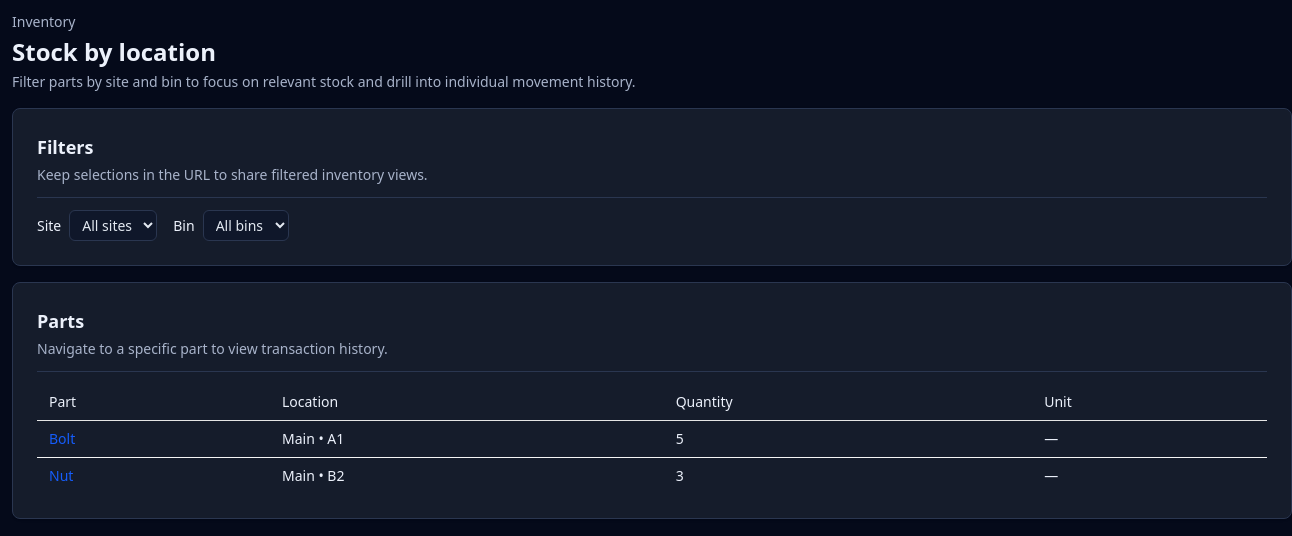
Scenario: Inventory list filters › filters by bin and reflects selection in the table
This screenshot has width=1292, height=536.
Expected: the link "Bolt" is shown, [49, 429, 75, 448]
Expected: the link "Nut" is shown, [49, 466, 73, 485]
Step 1. Select "B2" in the dropdown labelled "Bin" → (246, 226), box [203, 210, 289, 241]
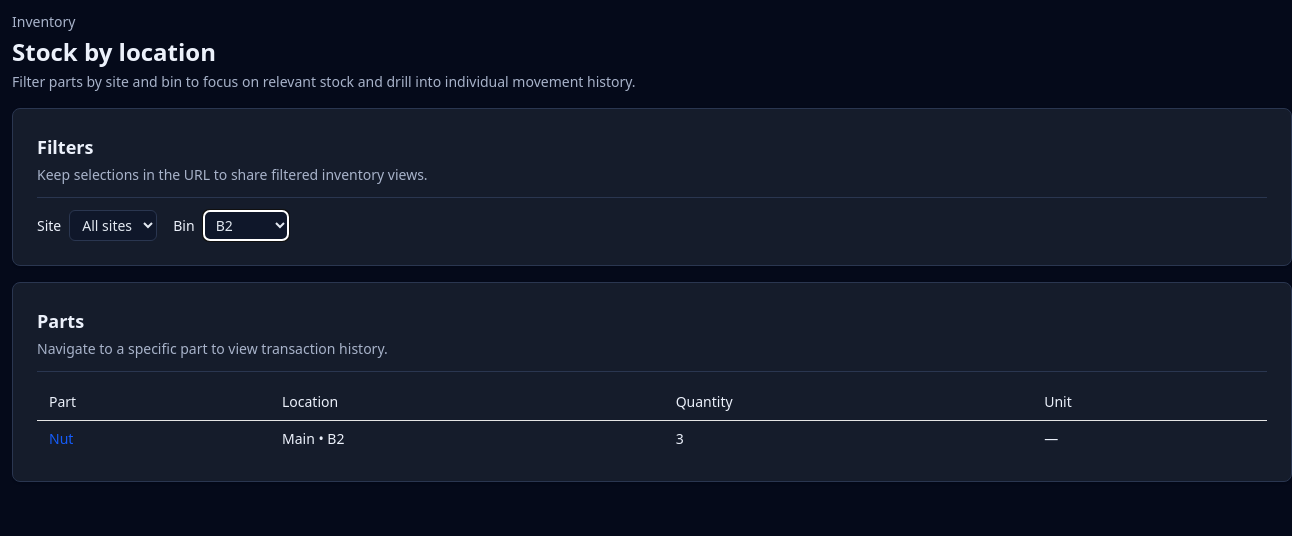
Expected: the link "Nut" is shown, [49, 429, 73, 448]
Expected: the link "Bolt" is gone
